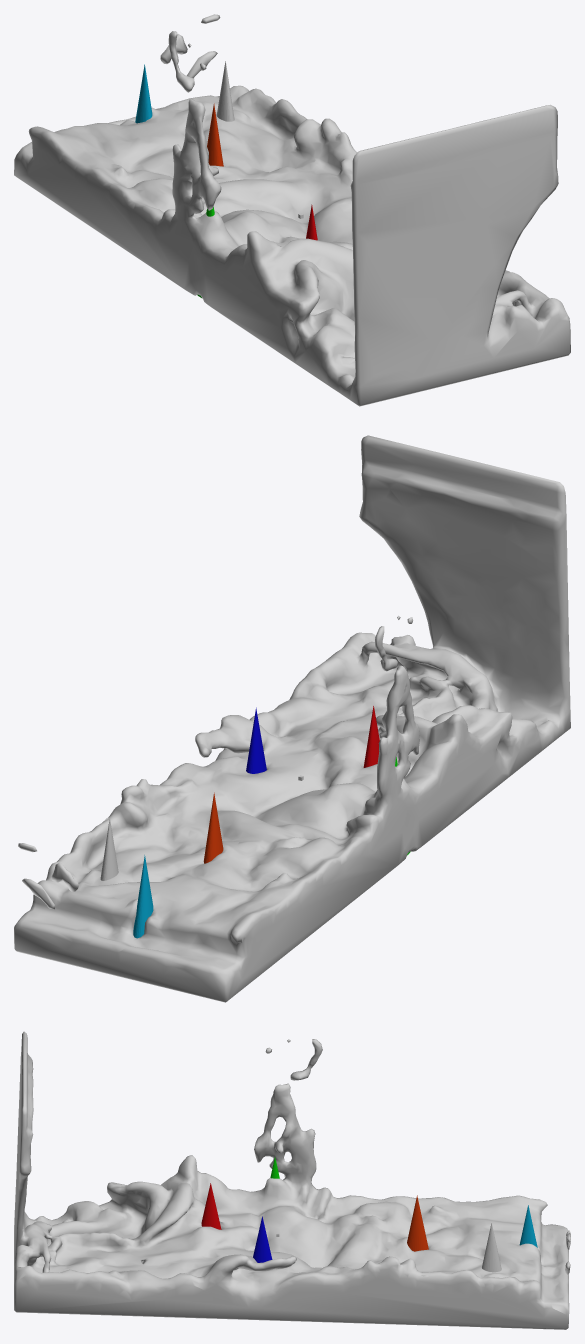
3 renders of one model, top to bottom at view 1: azimuth 30°, elevation 25°; view 2: azimuth 150°, elevation 25°; view 3: azimuth 270°, elevation 25°, orthographic. The views are drawn at different scales.
Visible parts, largest first — view 1: Liquid_Domain, 円錐, 円錐.004, 円錐.005; view 2: Liquid_Domain, 円錐.005, 円錐.002, 円錐.004; view 3: Liquid_Domain, 円錐.004, 円錐, 円錐.002, 円錐.001, 円錐.005.
Part boxes in pixels (x1,y1,x2,y2): Liquid_Domain: (14,14,570,406); 円錐: (216,61,234,121); 円錐.004: (207,103,223,166); 円錐.005: (135,64,152,123); Liquid_Domain: (14,435,570,1002); 円錐.005: (133,855,153,938); 円錐.002: (246,707,266,773); 円錐.004: (203,792,223,863); Liquid_Domain: (14,1031,570,1329); 円錐.004: (407,1195,428,1251); 円錐: (482,1223,501,1272); 円錐.002: (253,1216,272,1262); 円錐.001: (201,1183,221,1229); 円錐.005: (519,1205,537,1247).
Size of the model in its own units: 129 by 158 by 362.
